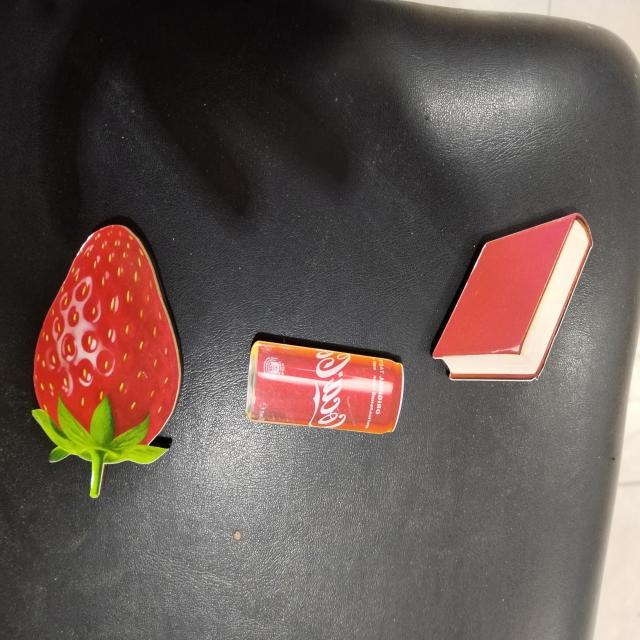Other Objects: (245, 340, 406, 438)
